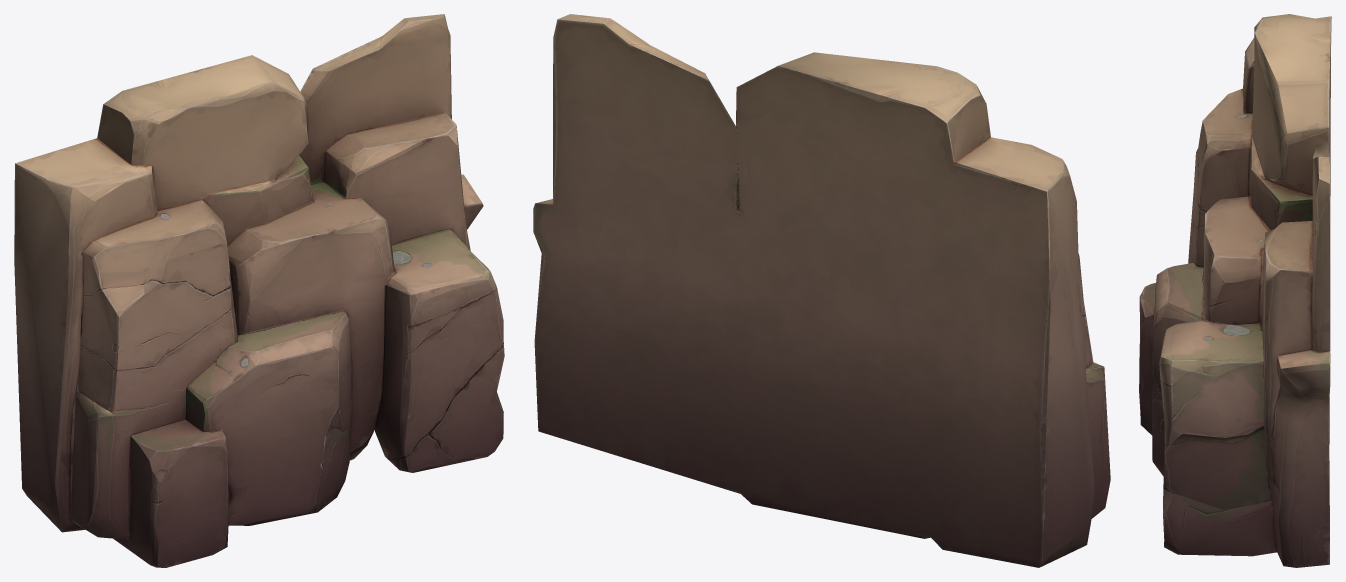
File: prop_Rock_Wall_A.fbx
The picture shows the model from 3 angles, left to right: view 1: azimuth 30°, elevation 25°; view 2: azimuth 150°, elevation 25°; view 3: azimuth 270°, elevation 25°; orthographic projection. The views are drawn at different scales.
Parts seen in each view (by area): view 1: prop_Rock_Wall_A; view 2: prop_Rock_Wall_A; view 3: prop_Rock_Wall_A.
Part boxes in pixels (x1,y1,x2,y2): prop_Rock_Wall_A: [14, 14, 504, 567]; prop_Rock_Wall_A: [533, 14, 1110, 567]; prop_Rock_Wall_A: [1139, 14, 1331, 567].
Size of the model in its own units: 2194 by 1873 by 791.
